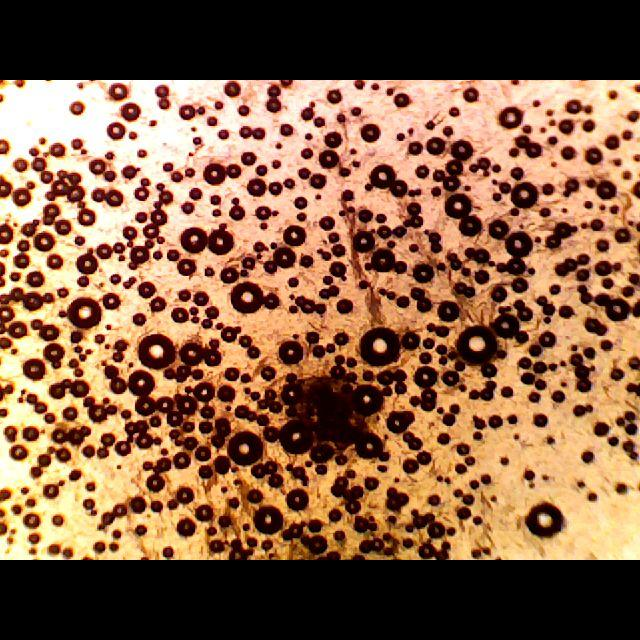microbeads: (135, 331, 179, 371), (522, 502, 568, 540), (361, 327, 402, 368), (454, 324, 496, 364), (226, 428, 264, 466), (225, 281, 265, 317), (64, 298, 102, 330)
